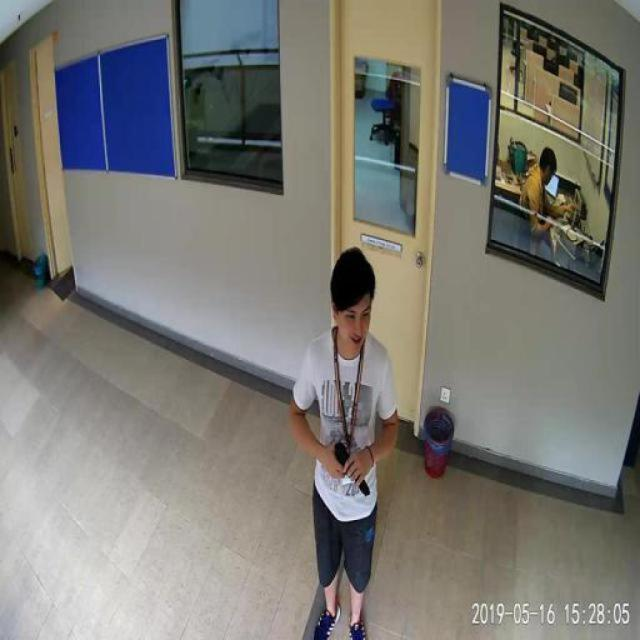pistol: (330, 444, 368, 495)
